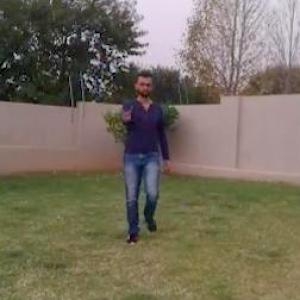takeoff-hand: (108, 98, 137, 126)
